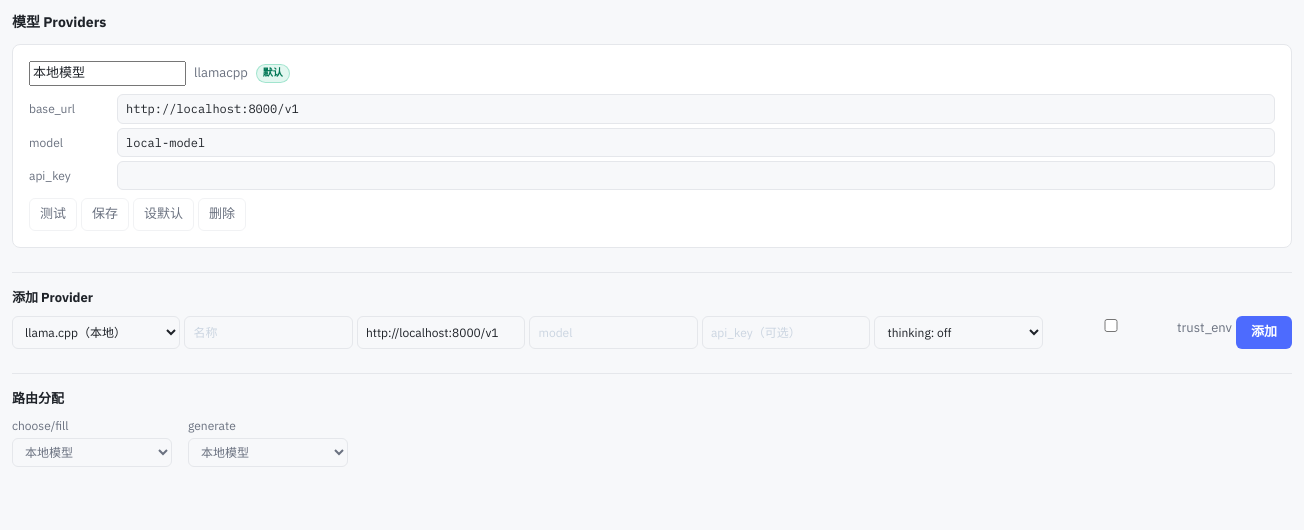
Test: ProvidersCard › backfills model from test result and persists it
Expected: the field showing "local-model" next to "model" is shown, [117, 128, 1275, 157]
What coordinates should you click on to do the following:
click the button "测试"
I would click on:
 (53, 215)
Its box is [29, 198, 77, 231].
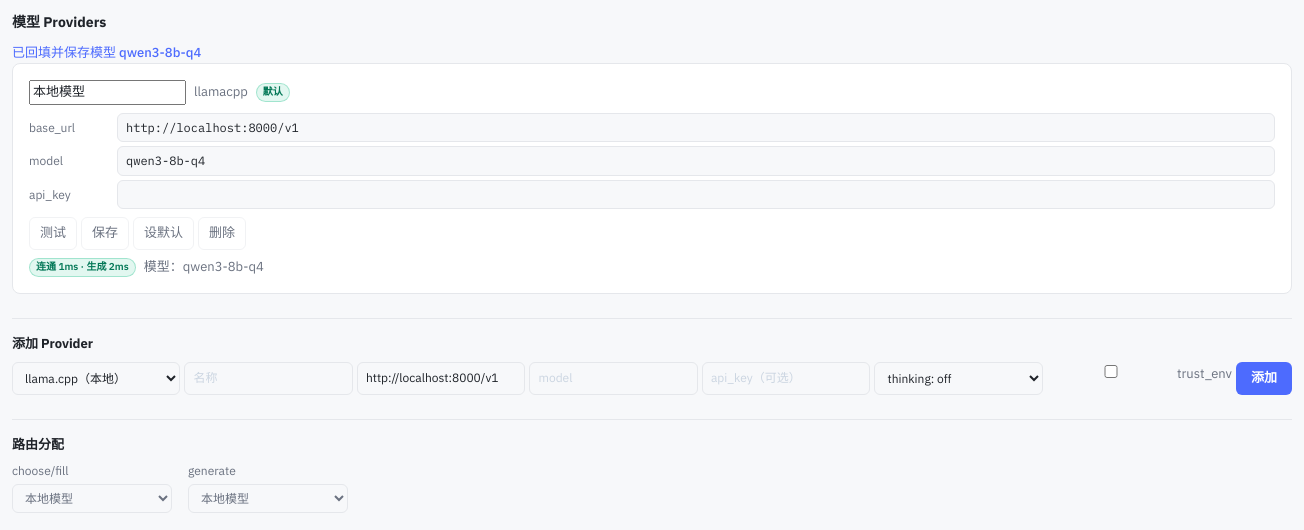
Expected: the field showing "qwen3-8b-q4" next to "model" is shown, [117, 146, 1275, 176]
